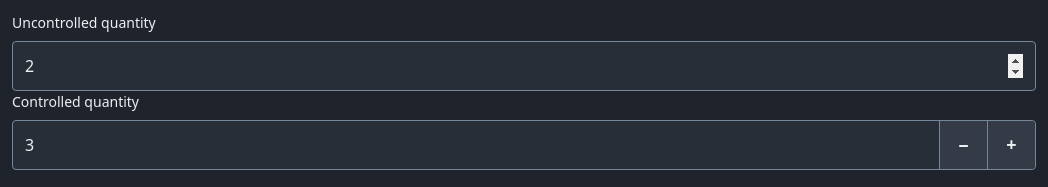
it: NumberField › forwards native change events for uncontrolled and controlled values
Replace the text in the number field labelled "Uncontrolled quantity" with "5" at [524, 66], box x1=12 y1=41 x2=1036 y2=91
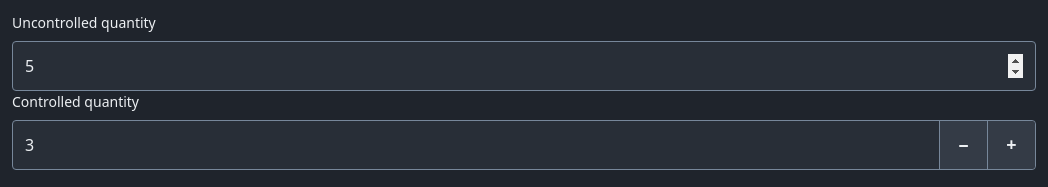
Replace the text in the number field labelled "Controlled quantity" with "7" at [476, 145], box x1=13 y1=121 x2=939 y2=169
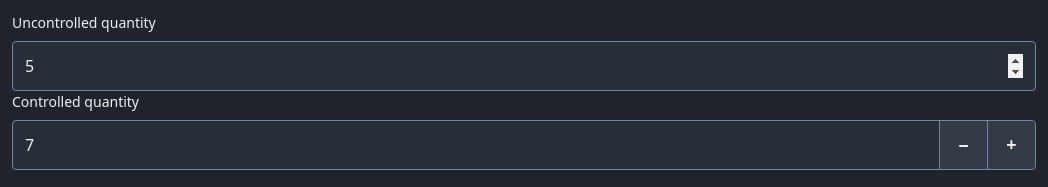
Click the button named "Controlled quantity Increase" at [1011, 145], box x1=987 y1=121 x2=1035 y2=169
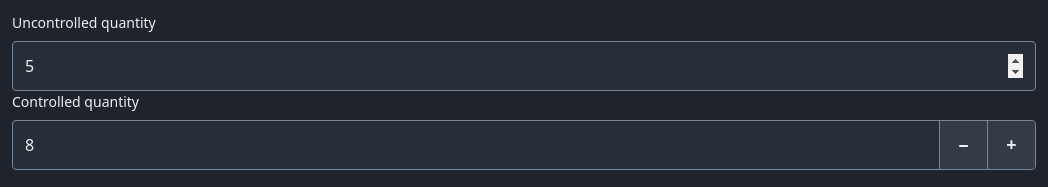
Expected: the number field labelled "Controlled quantity" holds "8", x1=13 y1=121 x2=939 y2=169
